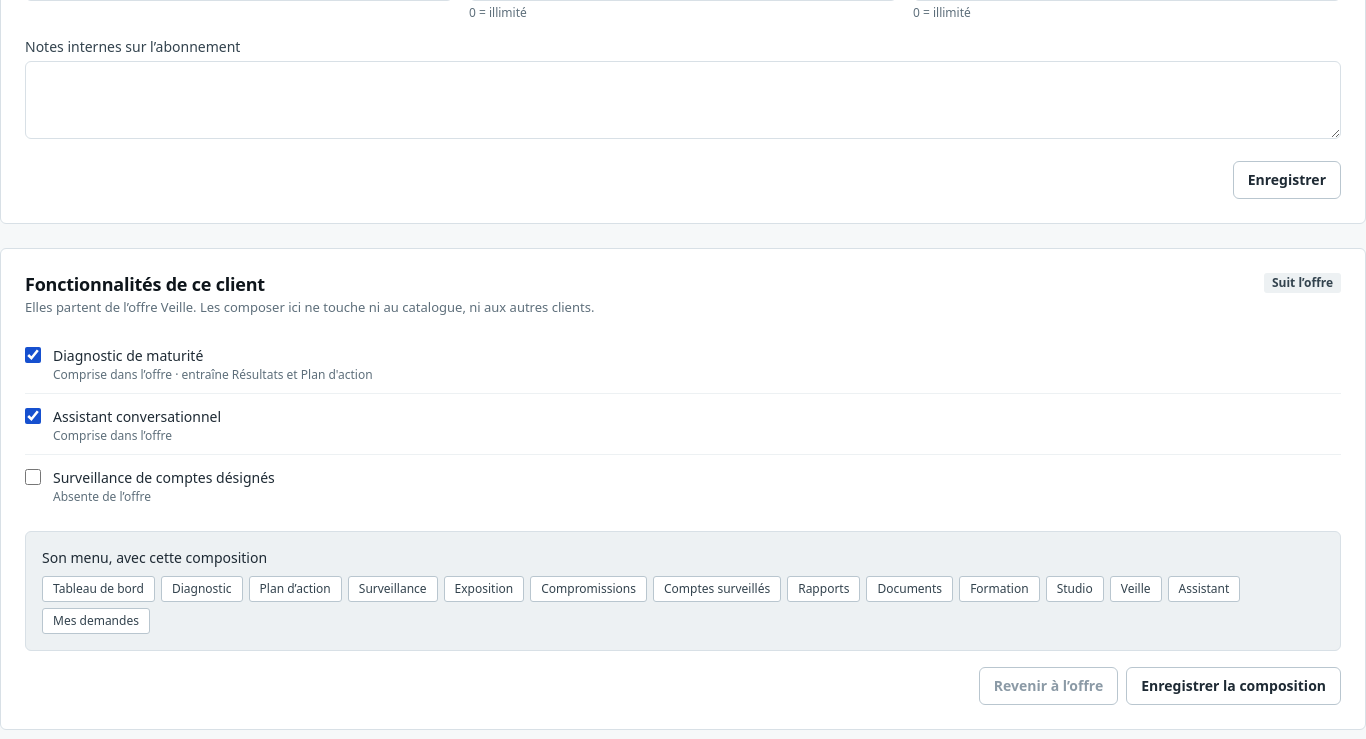
Test case: Composition du périmètre d’un client › montre le menu du client, écrans dérivés compris
(page scrolled)
expect the list item "Diagnostic" is shown: met, box [161,576,243,602]
expect the list item "Plan d’action" is shown: met, box [249,576,342,602]
Click the checkbox labelled "Diagnostic de maturité" at (33, 355), box [25,347,41,363]
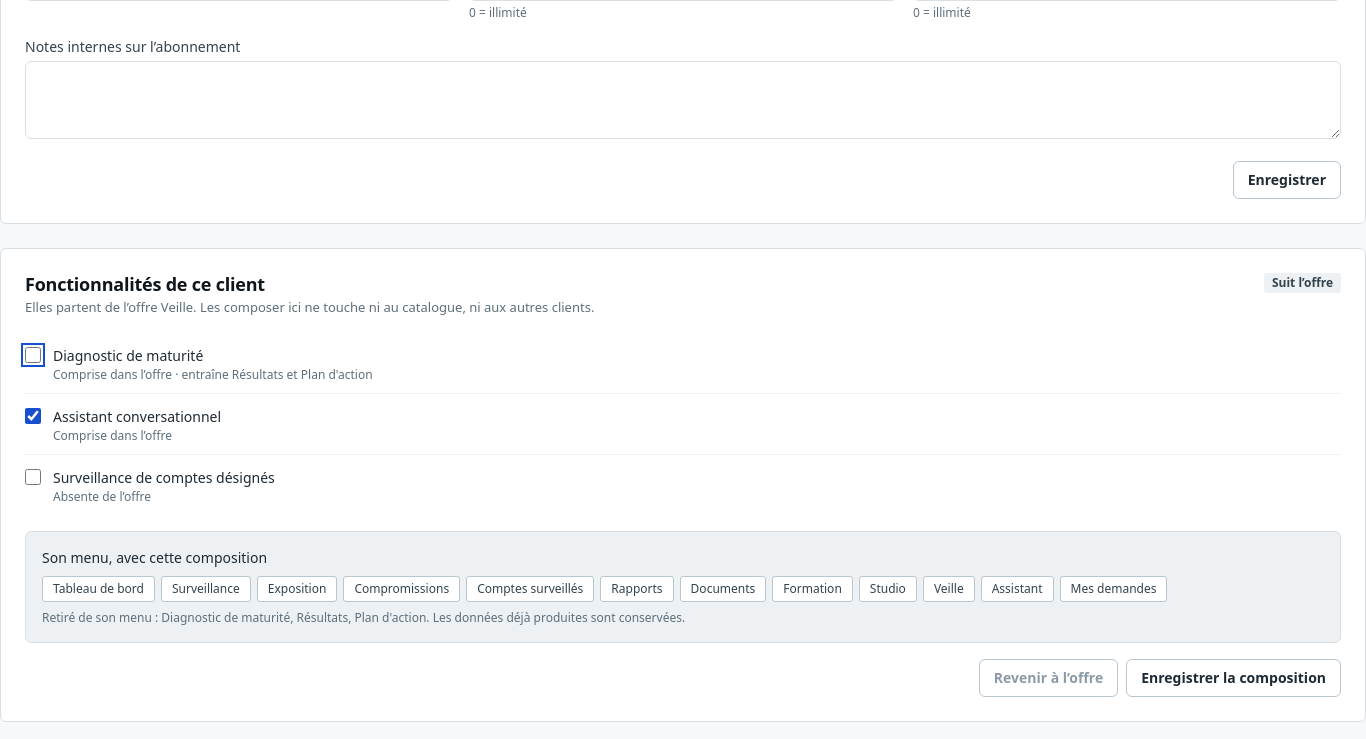
expect the list item "Tableau de bord" is shown: met, box [42,576,155,602]
expect the list item "Plan d’action" is gone: met
